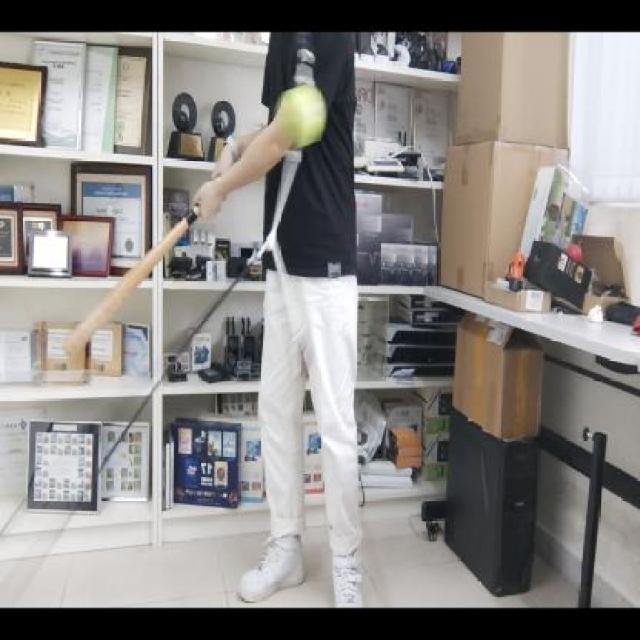baseball: (276, 82, 329, 152)
